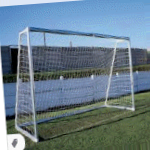goals: (14, 25, 137, 141)
